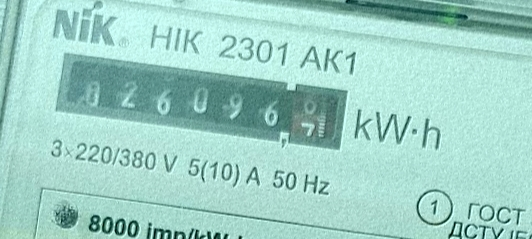0: (189, 84, 213, 121), (81, 77, 105, 111)
2: (117, 78, 142, 115)
6: (153, 85, 177, 122), (261, 96, 283, 131), (300, 91, 322, 121)
7: (298, 120, 318, 143)
9: (224, 91, 247, 126)
screen: (45, 44, 358, 165)
